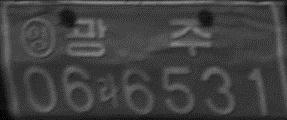0: (21, 65, 57, 114)
1: (242, 66, 273, 115)
3: (199, 64, 237, 116)
5: (161, 65, 196, 114)
6: (122, 67, 156, 114), (60, 64, 93, 112)
광주_D: (64, 17, 212, 57)
라: (96, 73, 121, 109)
영: (20, 16, 56, 59)
